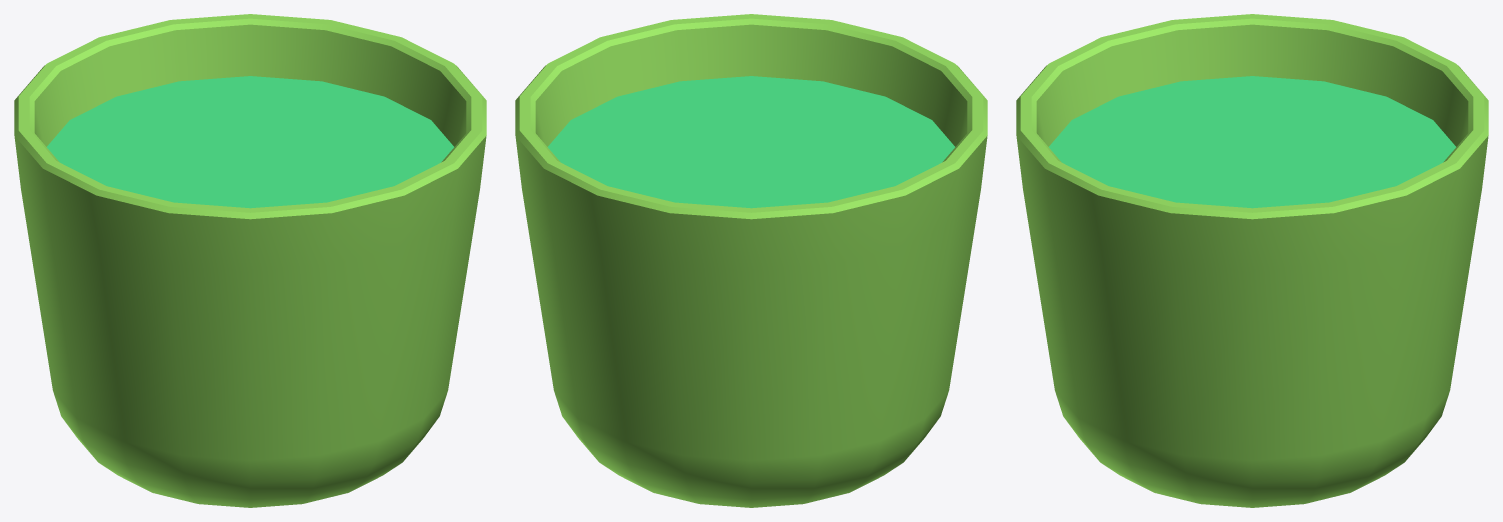
The model's file is topf.fbx.
3 views of the same model, side by side, from view 1: azimuth 30°, elevation 25°; view 2: azimuth 150°, elevation 25°; view 3: azimuth 270°, elevation 25° (orthographic).
Visible parts, largest first — view 1: topf; view 2: topf; view 3: topf.
Boxes of the visible parts, x1,y1,x2,y2 form: topf: (14, 14, 486, 507); topf: (515, 14, 987, 507); topf: (1016, 14, 1488, 507).
Bounding box in the file's own units: 46.39 × 36.89 × 45.68.
